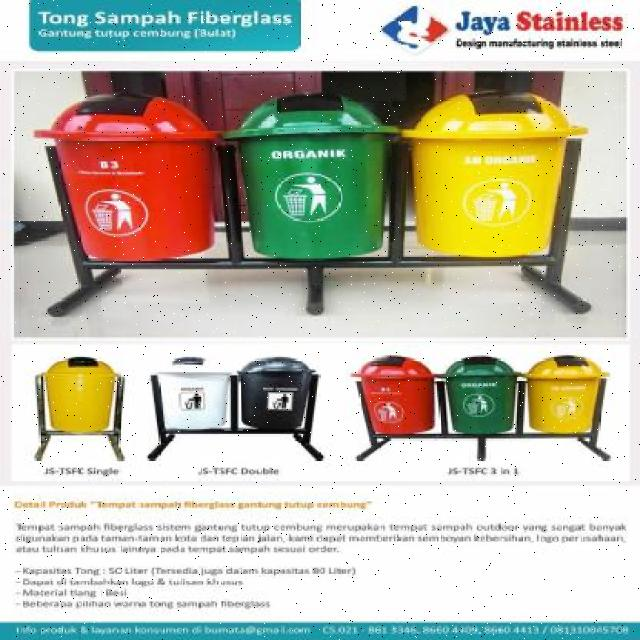garbage container: (388, 79, 589, 275), (215, 83, 403, 279), (35, 88, 224, 272), (34, 350, 131, 444), (238, 353, 325, 436)
